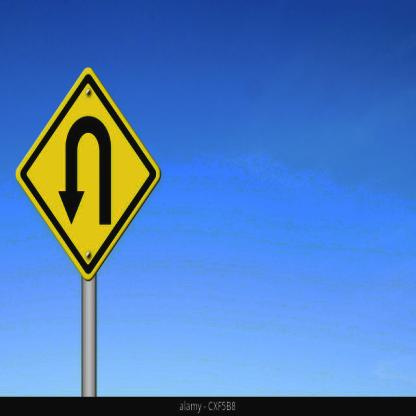U-turn: (13, 61, 163, 281)
